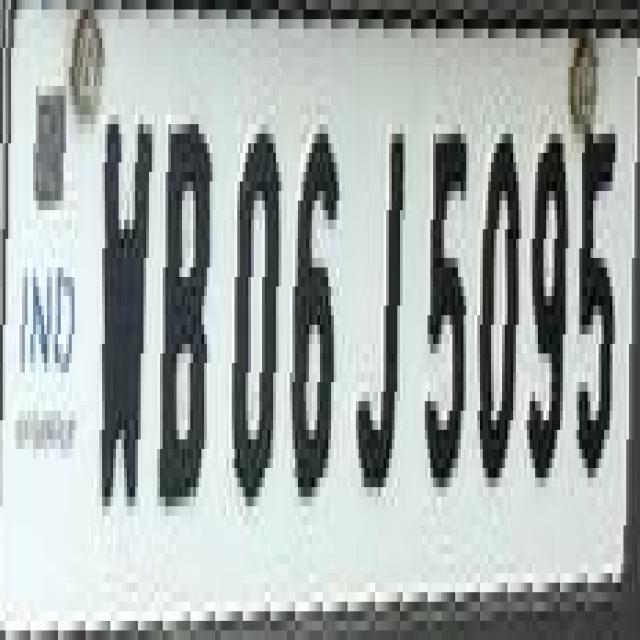plate: (0, 0, 609, 630)
